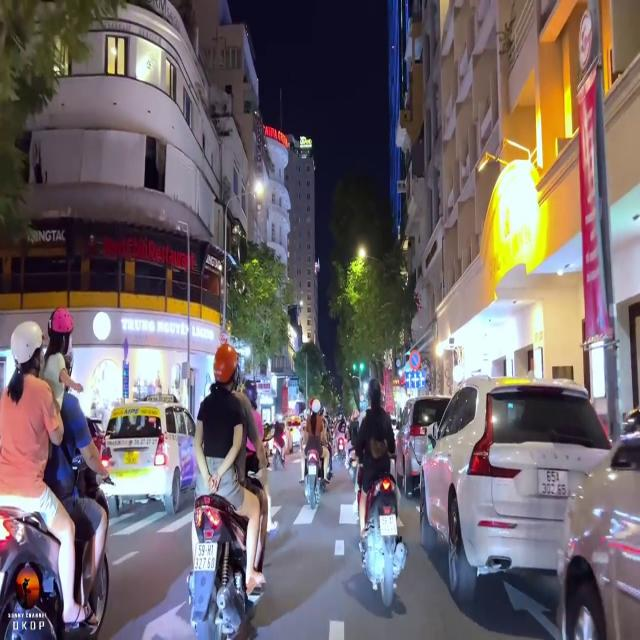bien_trang: (536, 466, 568, 502), (192, 544, 220, 568), (378, 512, 400, 535)
